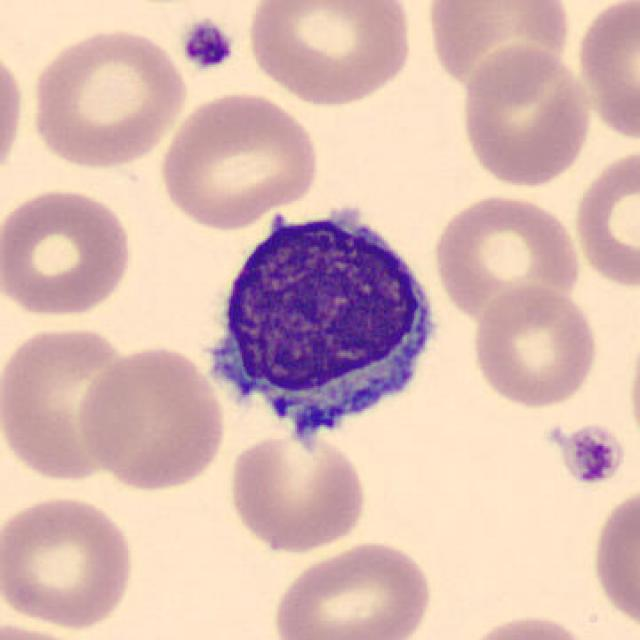Lymphocyte: (190, 192, 450, 462)
Platelets: (550, 419, 630, 488), (178, 16, 238, 74)
RBC: (154, 88, 323, 233), (25, 23, 190, 171), (75, 342, 229, 494), (0, 321, 140, 485), (457, 39, 595, 190), (429, 190, 583, 321), (0, 490, 140, 631), (243, 0, 417, 109), (0, 183, 137, 321), (224, 428, 370, 556), (268, 537, 437, 640), (468, 282, 602, 411), (421, 0, 576, 99), (569, 141, 640, 293), (570, 0, 640, 144), (588, 482, 640, 636), (453, 610, 601, 640), (0, 40, 28, 190)
